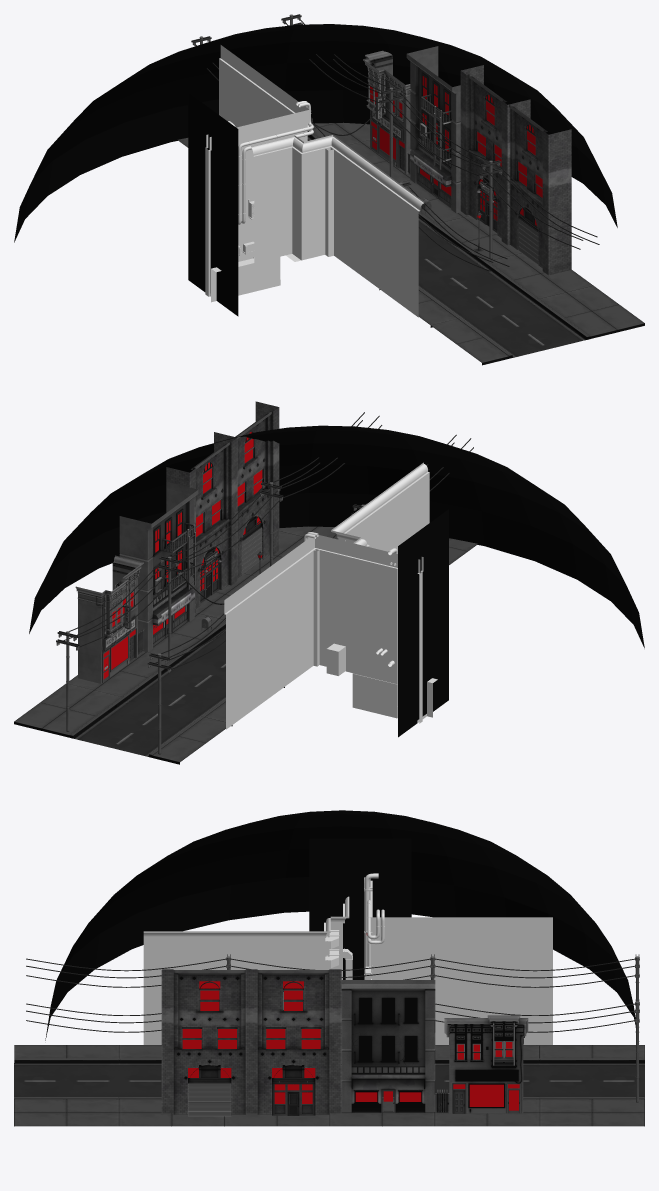
Rendered from PauseMenu_Test_02_9_21_20.fbx.
3 renders of one model, top to bottom at view 1: azimuth 30°, elevation 25°; view 2: azimuth 150°, elevation 25°; view 3: azimuth 270°, elevation 25°, orthographic. The views are drawn at different scales.
Parts seen in each view (by area): view 1: pause_boundary_dome, pause_sch, pause_boundary_alley, pause_alley_building_left.004, pause_piz, pause_street_set01_road.001, pause_street_set01_road, pause_rb, pause_alley_building_left.006, pause_alley_building_left.003, pause_alley_building_left.005, pause_street_set01_road.002 (+19 smaller); view 2: pause_boundary_dome, pause_sch, pause_boundary_alley, pause_alley_building_right.002, pause_piz, pause_rb, pause_street_set01_road.005, pause_alley_building_right.012, pause_alley_building_right.010, pause_street_set01_road.004, pause_alley_building_right.003, pause_alley_building_right.004 (+12 smaller); view 3: pause_boundary_dome, pause_sch, pause_piz, pause_boundary_alley, pause_rb, pause_alley_building_right.012, pause_alley_building_right.010, pause_street_set01_road.001, pause_street_set01_road.005, pause_alley_building_left.006, pause_alley_building_right.003, pause_alley_building_left.003 (+21 smaller).
Boxes of the visible parts, x1,y1,x2,y2 form: pause_boundary_dome: (14,24,617,242); pause_sch: (460,65,571,275); pause_boundary_alley: (188,93,238,316); pause_alley_building_left.004: (254,147,330,262); pause_piz: (406,46,461,213); pause_street_set01_road.001: (464,302,586,357); pause_street_set01_road: (418,265,534,319); pause_rb: (363,50,410,173); pause_alley_building_left.006: (389,190,418,317); pause_alley_building_left.003: (360,168,389,295); pause_alley_building_left.005: (330,147,359,274); pause_street_set01_road.002: (418,227,483,280); pause_boundary_dome: (29,425,644,648); pause_sch: (166,401,279,612); pause_boundary_alley: (398,509,448,737); pause_alley_building_right.002: (315,549,397,683); pause_piz: (119,482,198,652); pause_rb: (75,555,143,683); pause_street_set01_road.005: (74,700,197,756); pause_alley_building_right.012: (226,593,255,729); pause_alley_building_right.010: (256,571,285,707); pause_street_set01_road.004: (126,662,225,717); pause_alley_building_right.003: (285,549,315,685); pause_alley_building_right.004: (352,673,397,718); pause_boundary_dome: (45,810,639,1041); pause_sch: (161,969,341,1116); pause_piz: (341,980,435,1113); pause_boundary_alley: (309,838,411,979); pause_rb: (444,1015,528,1113); pause_alley_building_right.012: (493,931,552,1044); pause_alley_building_right.010: (433,931,492,1044); pause_street_set01_road.001: (14,1063,119,1096); pause_street_set01_road.005: (539,1063,644,1096); pause_alley_building_left.006: (143,938,203,1044); pause_alley_building_right.003: (377,931,432,979); pause_alley_building_left.003: (203,938,263,969).
Bounding box in the file's own units: 52.45 × 20.72 × 52.5.
